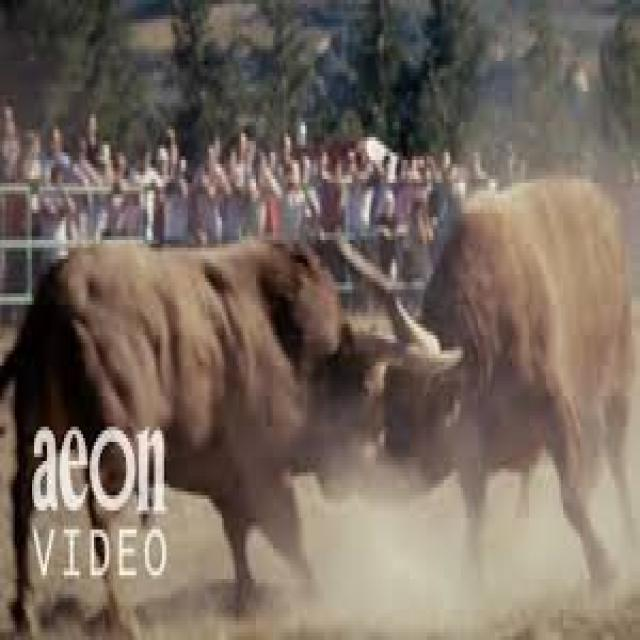Ox: (13, 203, 467, 634), (328, 182, 640, 625)
